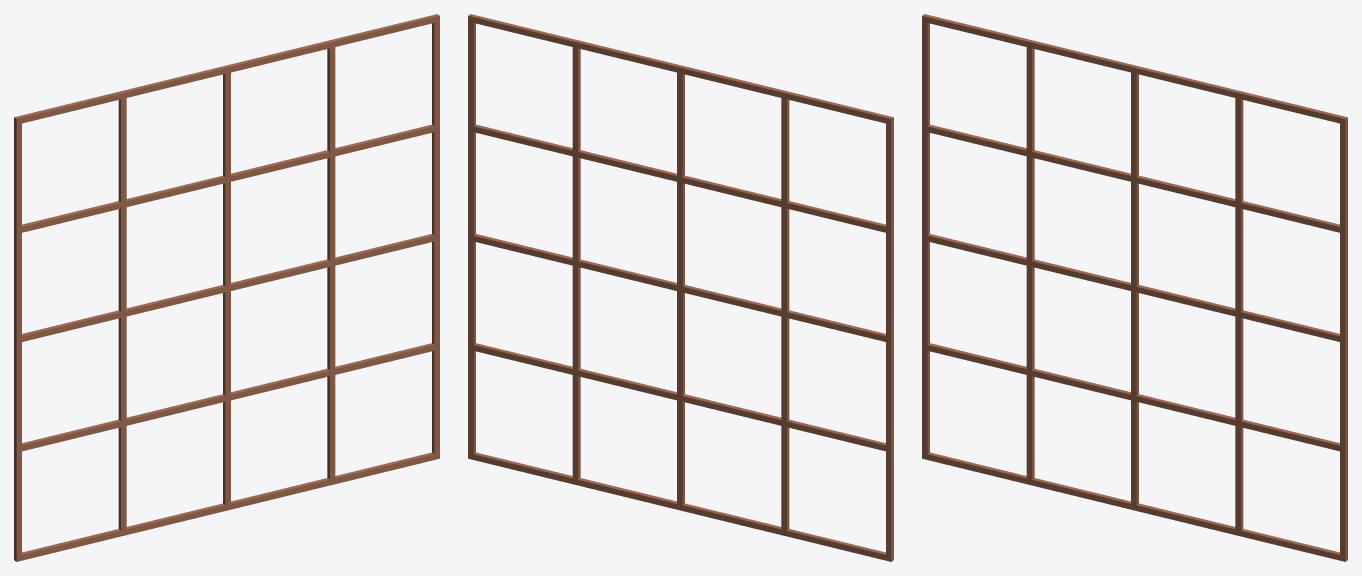
3 views of the same model, side by side, from view 1: azimuth 30°, elevation 25°; view 2: azimuth 150°, elevation 25°; view 3: azimuth 330°, elevation 25° (orthographic).
Parts seen in each view (by area): view 1: Cube.001; view 2: Cube.001; view 3: Cube.001.
Part boxes in pixels (bbox=[...]): Cube.001: bbox=[14, 14, 439, 561]; Cube.001: bbox=[468, 14, 893, 561]; Cube.001: bbox=[922, 14, 1347, 561].
Size of the model in its own units: 179 by 179 by 1.8.
